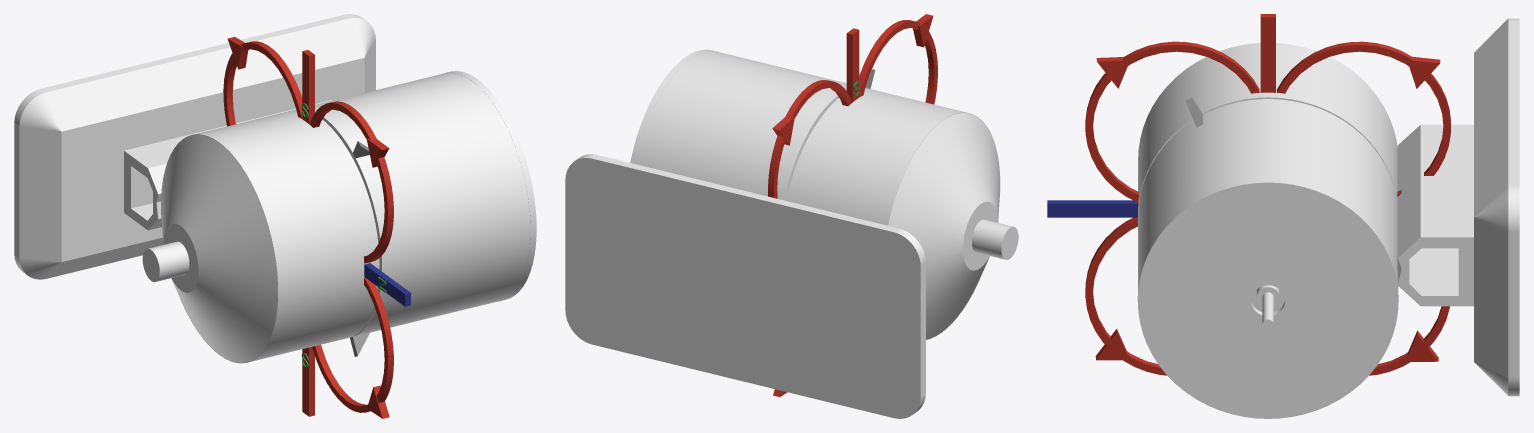
The model's file is AsyncEngine.fbx.
3 views of the same model, side by side, from view 1: azimuth 30°, elevation 25°; view 2: azimuth 150°, elevation 25°; view 3: azimuth 270°, elevation 25° (orthographic). The views are drawn at different scales.
Visible parts, largest first — view 1: двигатель v22, 23 (1); view 2: двигатель v22, 23 (1); view 3: двигатель v22, 23 (1).
Boxes of the visible parts, x1,y1,x2,y2 form: двигатель v22: (14, 14, 536, 418); 23 (1): (223, 41, 393, 412); двигатель v22: (565, 14, 1018, 418); 23 (1): (768, 20, 937, 198); двигатель v22: (1047, 14, 1519, 418); 23 (1): (1085, 41, 1450, 375).
Bounding box in the file's own units: 66.49 × 58 × 62.
